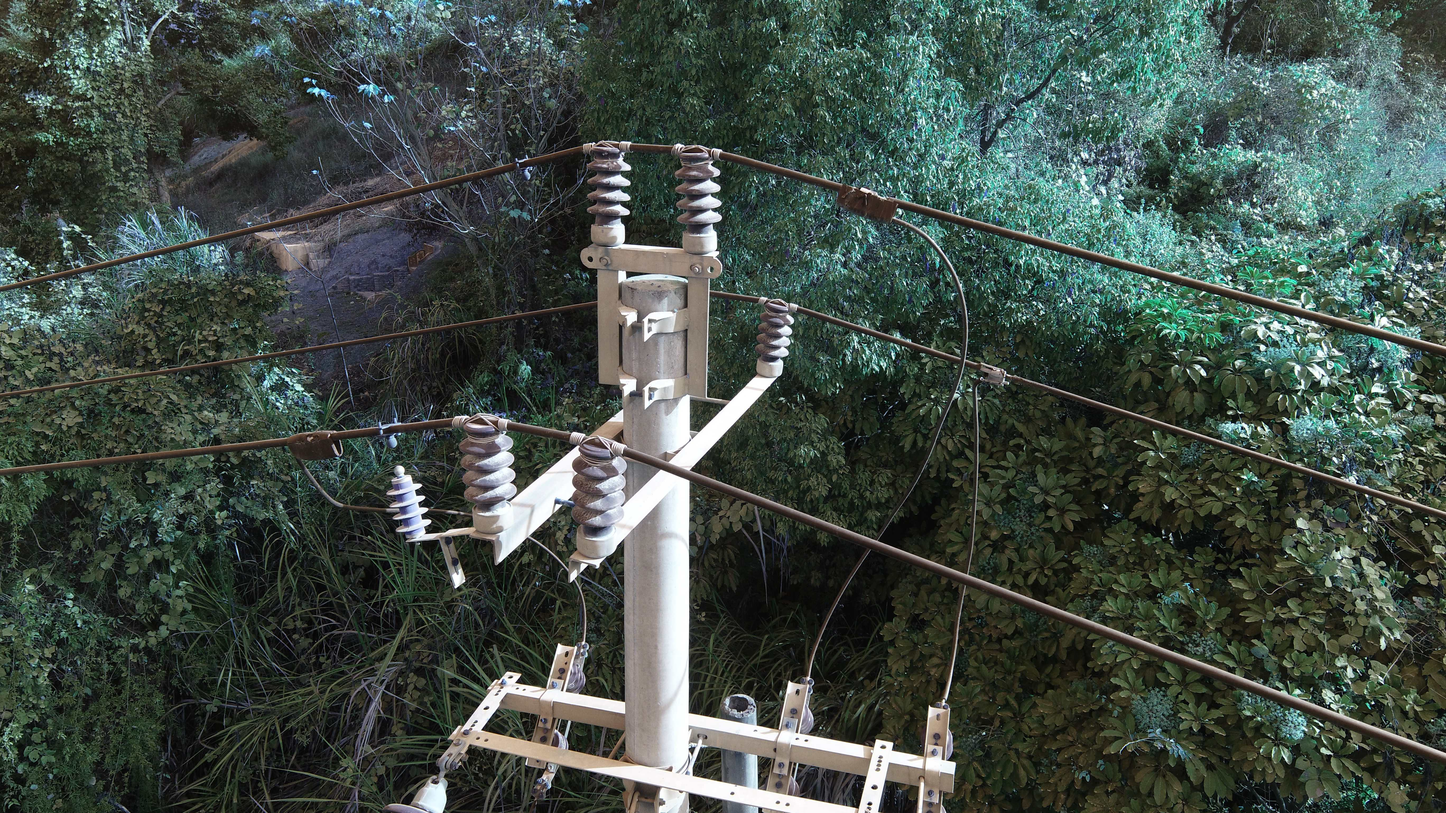severe_soiling_no_discharge_whole: (566, 428, 632, 559), (455, 409, 522, 536), (672, 143, 726, 256), (585, 139, 634, 247), (752, 292, 797, 381)
